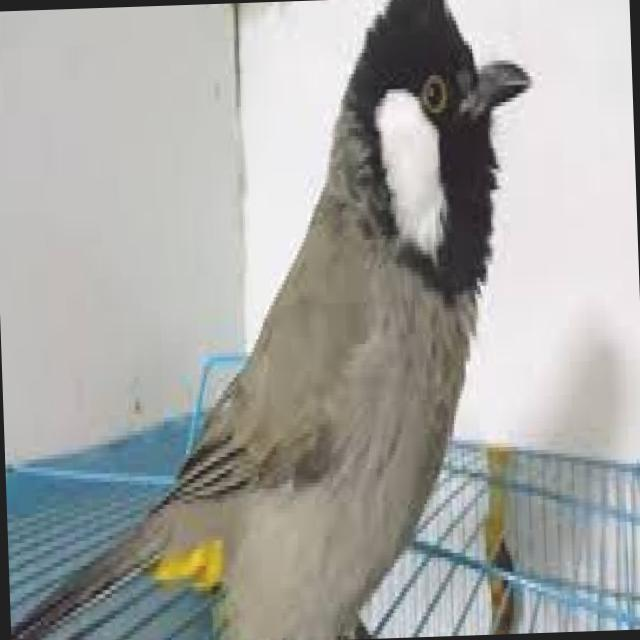bird: (0, 0, 556, 640)
